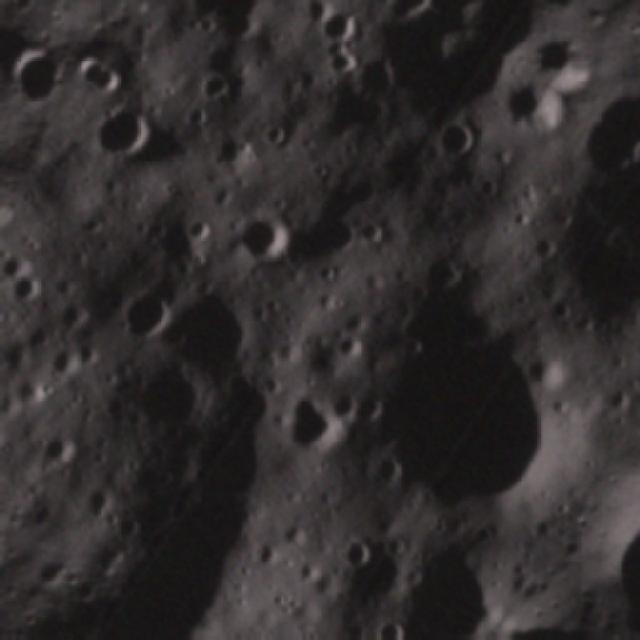crater: (317, 272, 621, 568), (135, 268, 279, 409), (366, 529, 525, 640), (108, 344, 220, 456), (259, 379, 361, 478), (484, 68, 582, 160), (77, 91, 172, 183), (214, 190, 308, 279), (106, 275, 186, 356), (418, 104, 494, 178), (31, 427, 92, 487), (36, 332, 96, 392), (310, 0, 368, 57), (316, 42, 373, 98), (68, 477, 123, 534), (182, 61, 238, 116), (332, 534, 380, 583), (253, 113, 298, 161)
